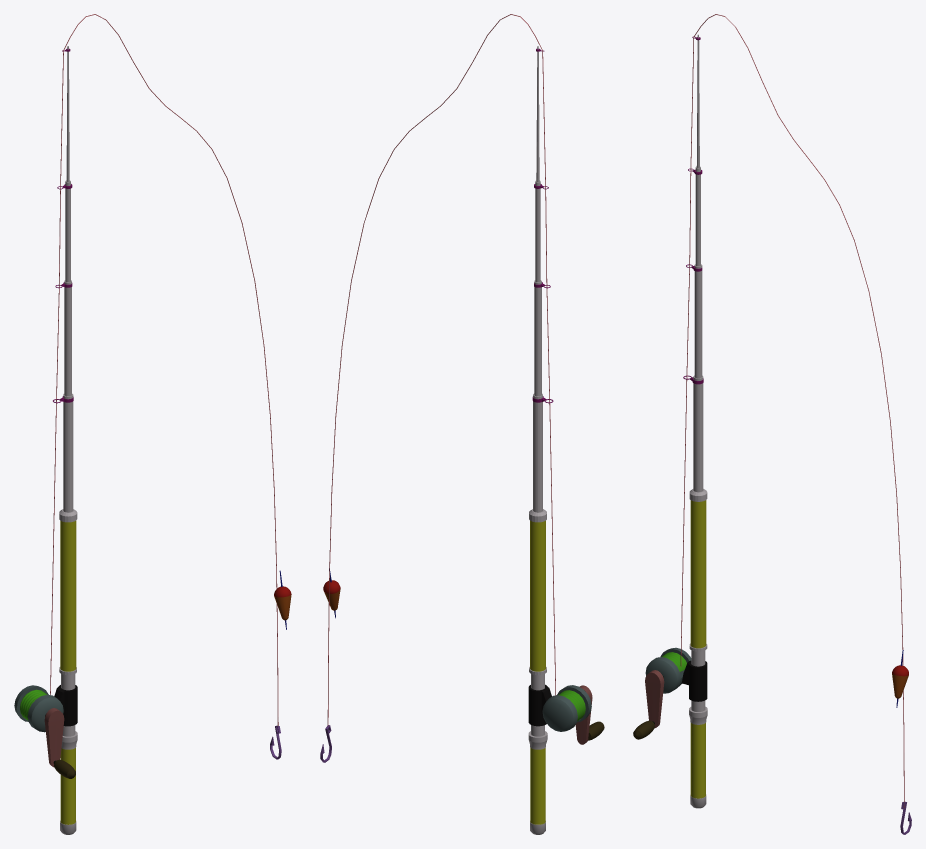
3 views of the same model, side by side, from view 1: azimuth 30°, elevation 25°; view 2: azimuth 150°, elevation 25°; view 3: azimuth 330°, elevation 25° (orthographic).
Parts seen in each view (by area): view 1: pod; view 2: pod; view 3: pod.
Part boxes in pixels (bbox=[...]): pod: bbox=[14, 14, 291, 834]; pod: bbox=[320, 14, 604, 834]; pod: bbox=[633, 14, 911, 834].
Bounding box in the file's own units: 47.59 × 140 × 14.11.
